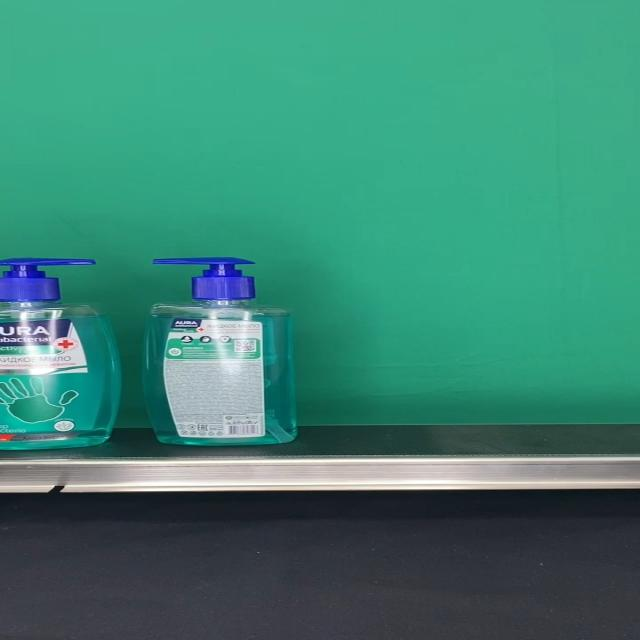Bottle: (144, 257, 298, 446)
Cap: (153, 258, 256, 300)
